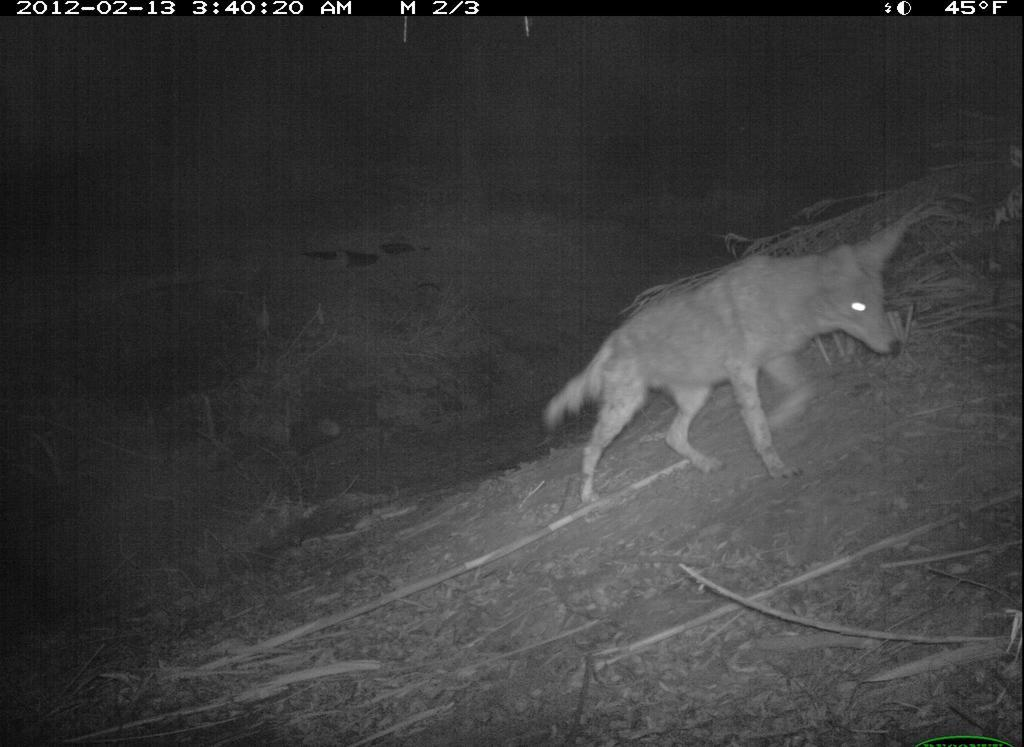coyote: (534, 214, 918, 510)
